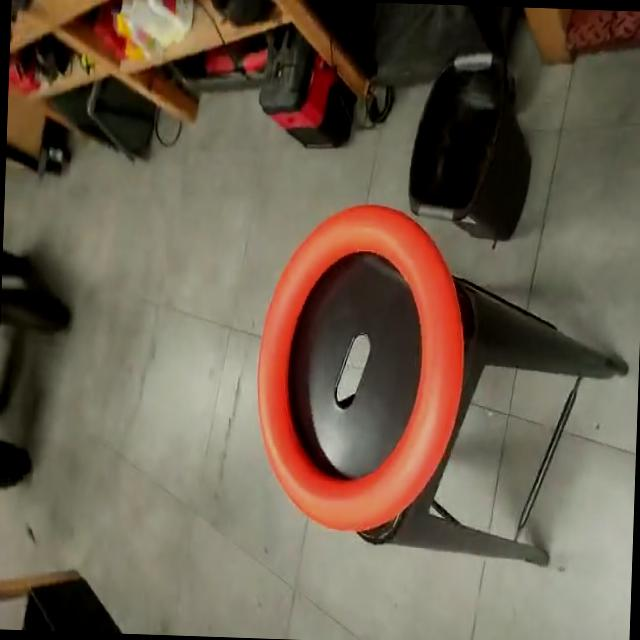note: (246, 192, 474, 534)
